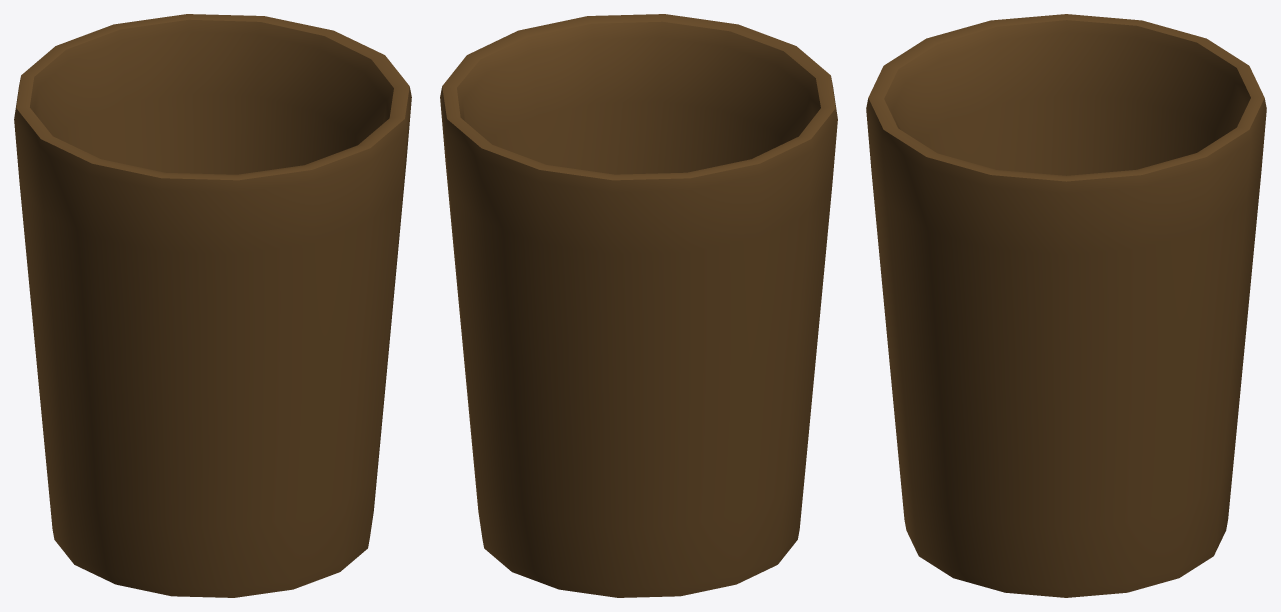
The model's file is wastebasket.fbx.
3 views of the same model, side by side, from view 1: azimuth 30°, elevation 25°; view 2: azimuth 150°, elevation 25°; view 3: azimuth 270°, elevation 25° (orthographic).
Parts seen in each view (by area): view 1: Cylinder.124; view 2: Cylinder.124; view 3: Cylinder.124.
Boxes of the visible parts, left/top/right/bottom form: Cylinder.124: left=14, top=14, right=411, bottom=597; Cylinder.124: left=440, top=14, right=837, bottom=597; Cylinder.124: left=866, top=14, right=1266, bottom=597.
Bounding box in the file's own units: 30.5 × 36.47 × 30.5.
